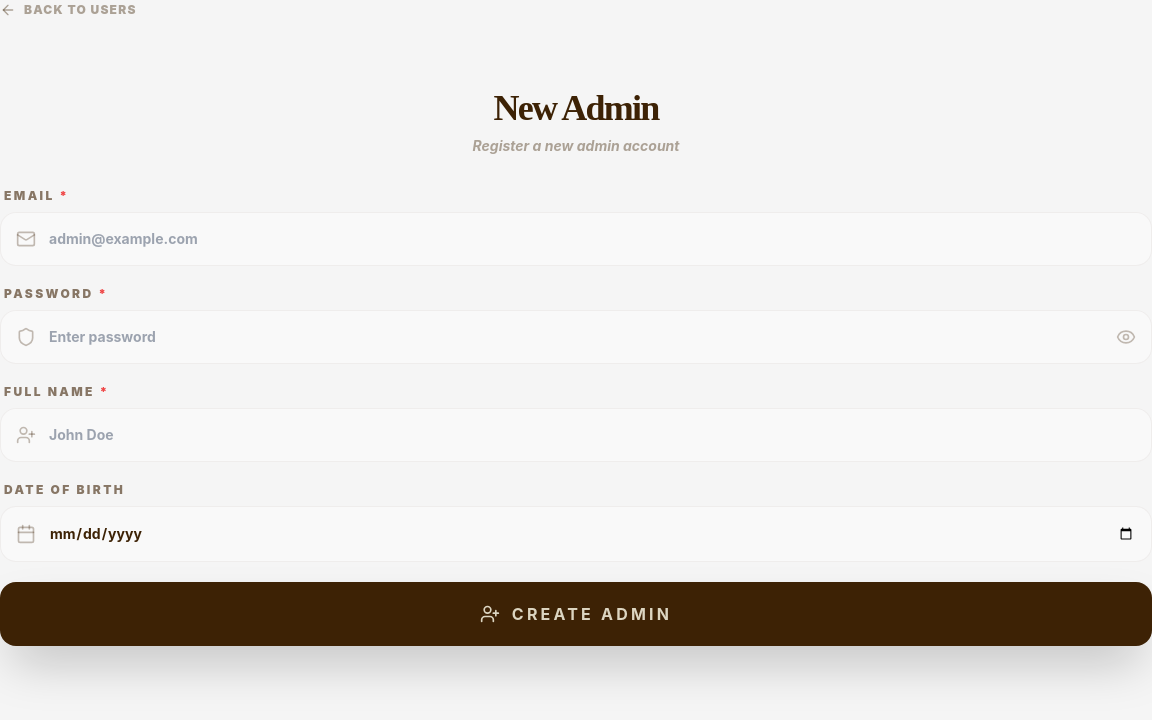
it: UserNewPage › shows error when email is empty
Click the button "Create Admin" at (576, 614), box left=0, top=582, right=1151, bottom=646
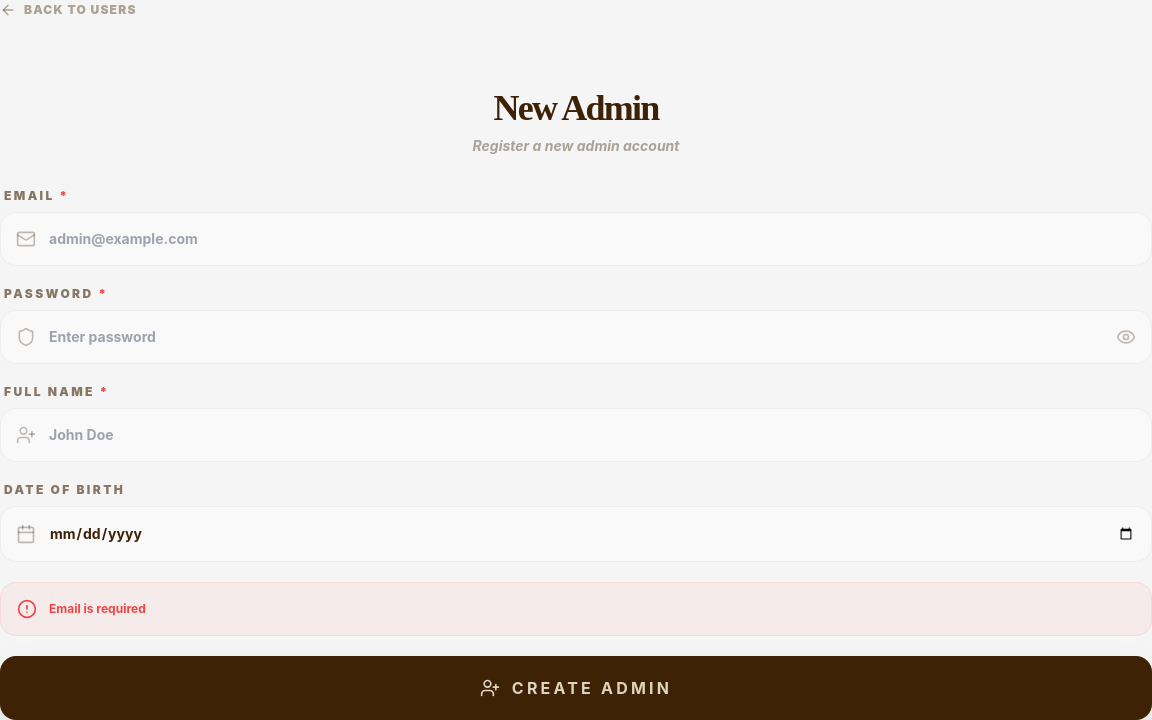
Expected: the text "Email is required" is shown, left=49, top=599, right=146, bottom=618
